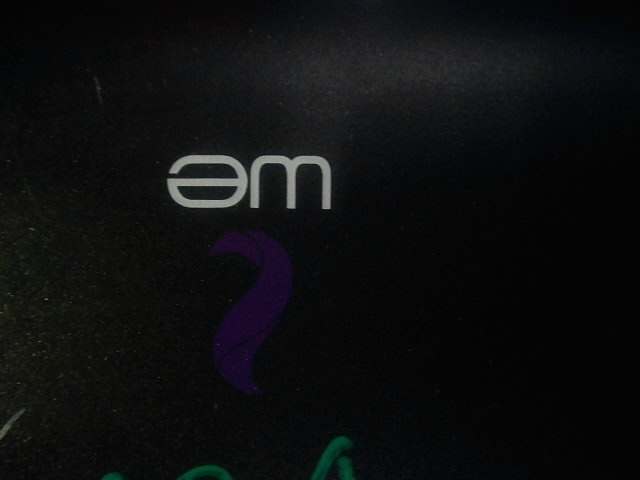AT_We: (155, 152, 335, 402)
